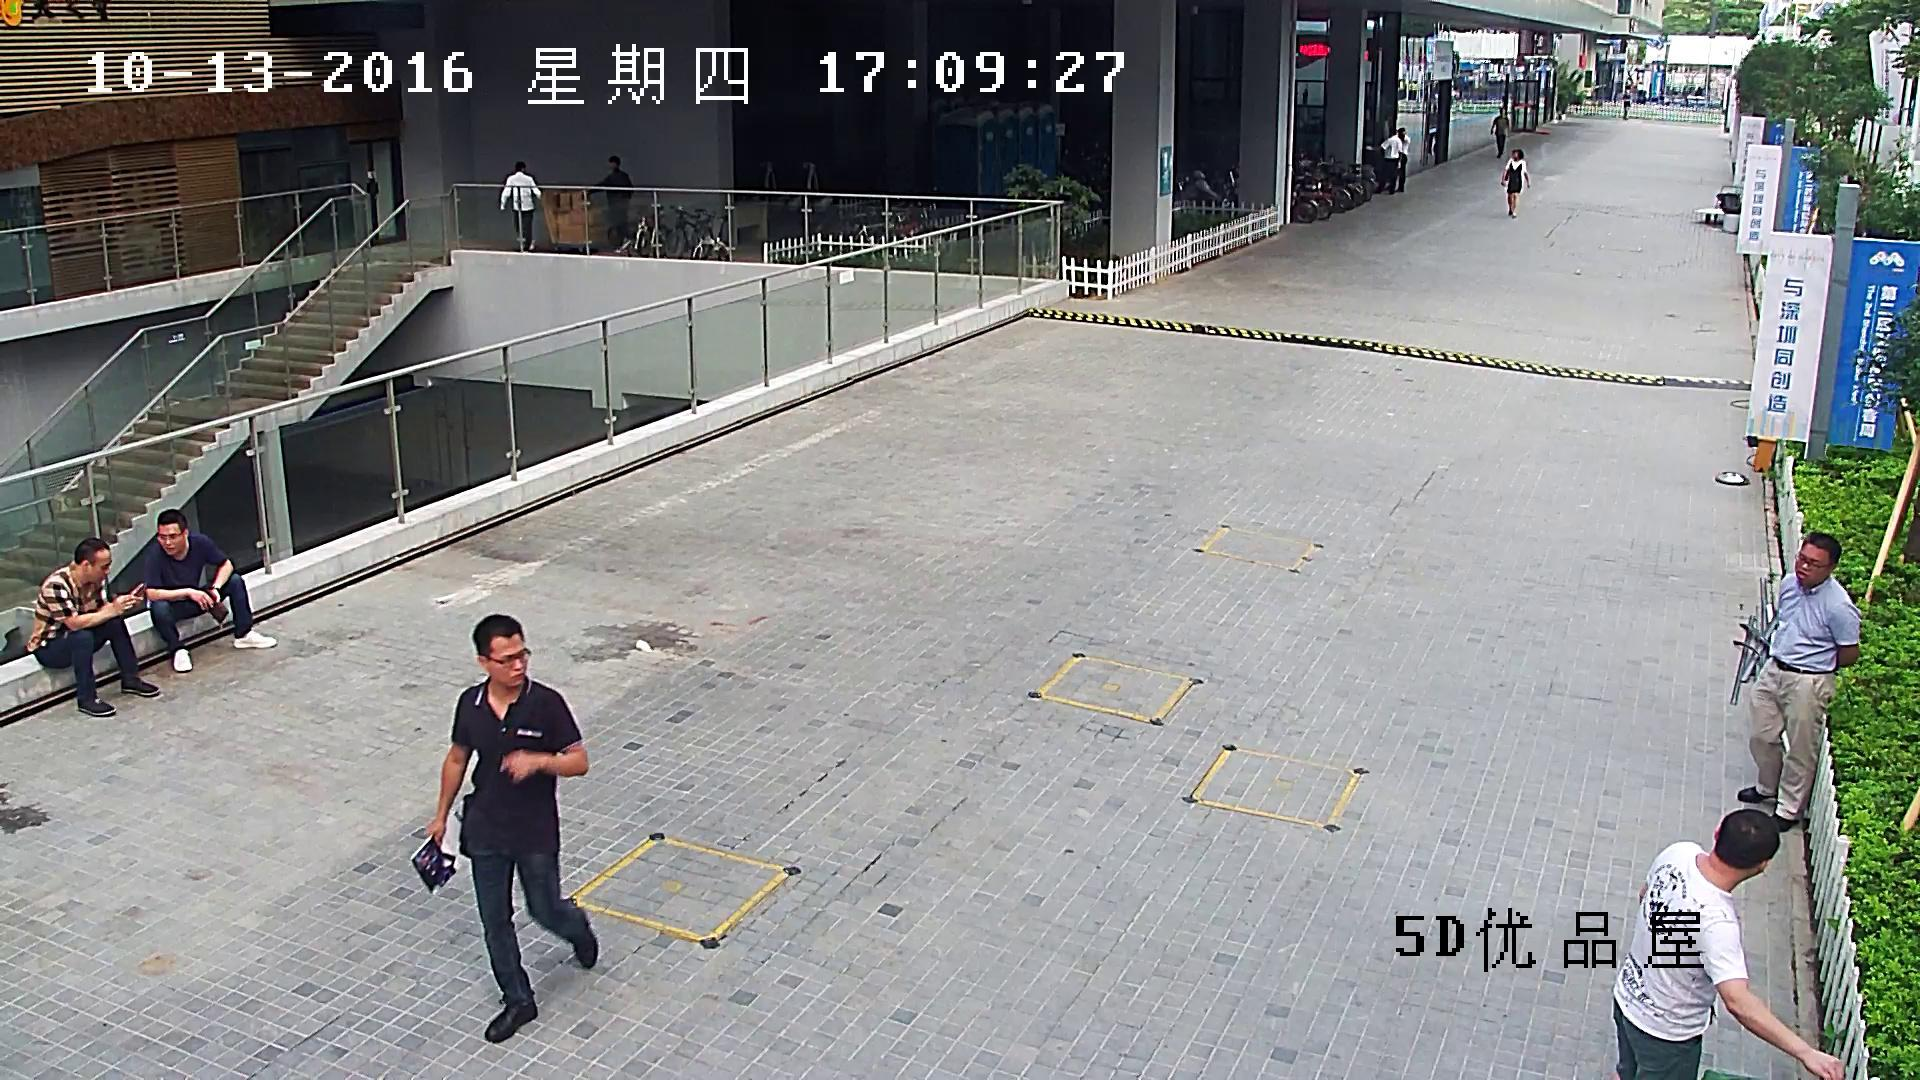person: (409, 615, 597, 1042), (1612, 809, 1847, 1080), (1735, 530, 1863, 833), (25, 537, 161, 716), (144, 508, 277, 676), (501, 160, 607, 252), (540, 154, 634, 252), (585, 154, 636, 248), (502, 160, 542, 249), (1501, 148, 1530, 217), (1374, 127, 1402, 194), (1489, 107, 1508, 159), (1397, 126, 1410, 192), (1425, 104, 1437, 156), (1622, 87, 1631, 119)
